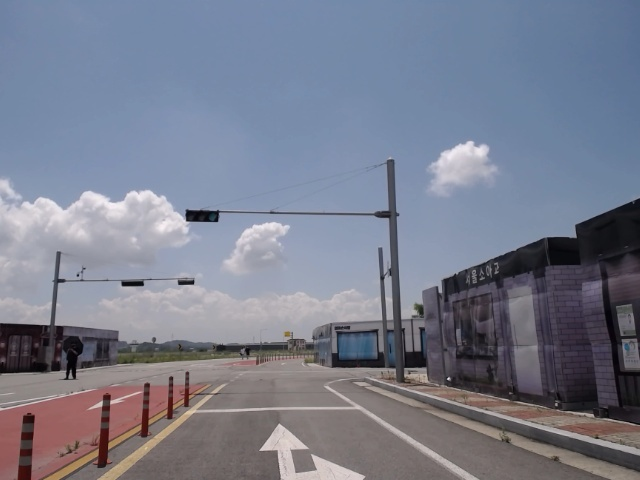green_3: (186, 211, 218, 222)
